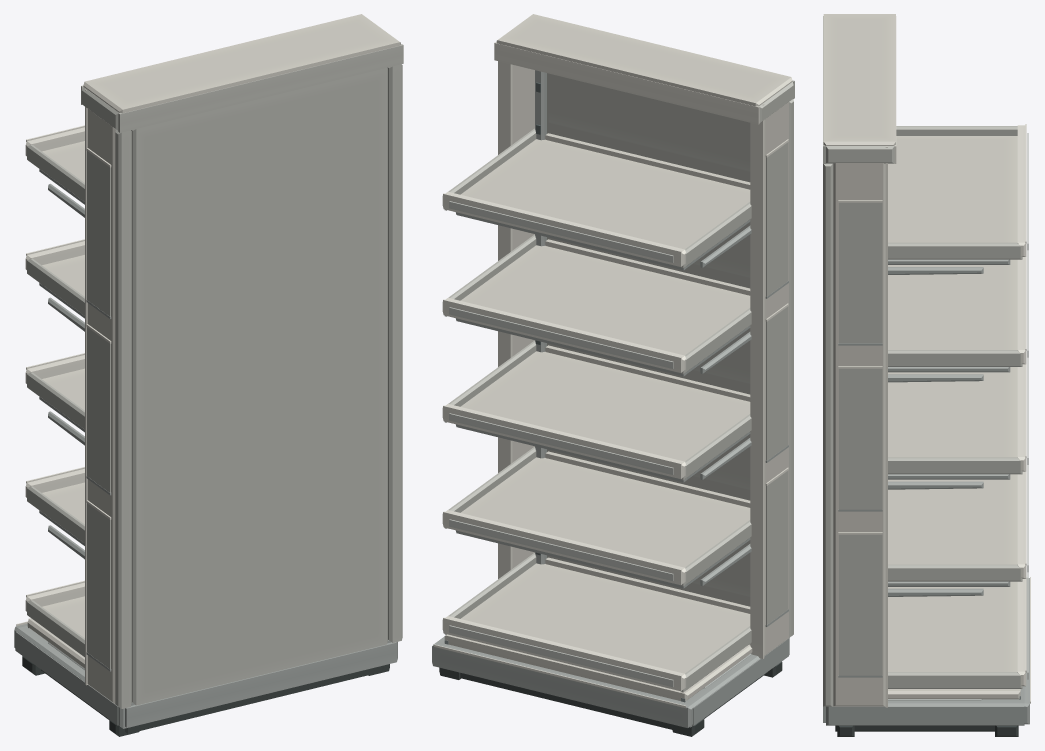
Rendered from retail_shelf_single.obj.
The picture shows the model from 3 angles, left to right: view 1: azimuth 30°, elevation 25°; view 2: azimuth 150°, elevation 25°; view 3: azimuth 270°, elevation 25°; orthographic projection. The views are drawn at different scales.
Visible parts, largest first — view 1: back_panel__mid, right_side_panel__mid, top_cap__plastic, base_assembly__deck, left_side_panel__mid, top_cap__mid, right_side_panel__plastic, base_assembly__plinth, right_side_panel__trim, shelf_tier_01__mid, shelf_tier_03__mid, shelf_tier_02__mid (+13 smaller); view 2: back_panel__mid, shelf_tier_01__plastic, shelf_tier_02__plastic, shelf_tier_04__plastic, shelf_tier_05__plastic, shelf_tier_03__plastic, right_side_panel__mid, top_cap__plastic, price_tag_strips__label, base_assembly__deck, right_side_panel__trim, top_cap__trim (+22 smaller); view 3: left_side_panel__mid, shelf_tier_05__plastic, shelf_tier_03__plastic, shelf_tier_02__plastic, shelf_tier_01__plastic, shelf_tier_04__plastic, left_side_panel__plastic, top_cap__plastic, base_assembly__deck, shelf_tier_05__mid, shelf_tier_03__mid, shelf_tier_02__mid (+17 smaller).
Part boxes in pixels (x1=…): back_panel__mid: x1=131, y1=68, x2=387, y2=705; right_side_panel__mid: x1=87, y1=129, x2=131, y2=708; top_cap__plastic: x1=83, y1=14, x2=400, y2=113; base_assembly__deck: x1=14, y1=623, x2=397, y2=728; left_side_panel__mid: x1=387, y1=64, x2=402, y2=642; top_cap__mid: x1=81, y1=44, x2=403, y2=132; right_side_panel__plastic: x1=87, y1=109, x2=115, y2=704; base_assembly__plinth: x1=22, y1=656, x2=389, y2=736; right_side_panel__trim: x1=85, y1=89, x2=111, y2=685; shelf_tier_01__mid: x1=27, y1=600, x2=84, y2=657; shelf_tier_03__mid: x1=27, y1=372, x2=84, y2=429; shelf_tier_02__mid: x1=27, y1=486, x2=84, y2=543; back_panel__mid: x1=547, y1=73, x2=750, y2=606; shelf_tier_01__plastic: x1=461, y1=557, x2=750, y2=673; shelf_tier_02__plastic: x1=460, y1=451, x2=750, y2=567; shelf_tier_04__plastic: x1=460, y1=239, x2=750, y2=355; shelf_tier_05__plastic: x1=460, y1=133, x2=750, y2=249; shelf_tier_03__plastic: x1=460, y1=345, x2=750, y2=461; right_side_panel__mid: x1=749, y1=99, x2=793, y2=644; top_cap__plastic: x1=496, y1=14, x2=792, y2=106; price_tag_strips__label: x1=449, y1=201, x2=673, y2=687; base_assembly__deck: x1=432, y1=636, x2=789, y2=727; right_side_panel__trim: x1=750, y1=104, x2=788, y2=658; top_cap__trim: x1=494, y1=42, x2=759, y2=124; left_side_panel__mid: x1=823, y1=163, x2=882, y2=706; shelf_tier_05__plastic: x1=888, y1=136, x2=1017, y2=242; shelf_tier_03__plastic: x1=888, y1=367, x2=1017, y2=457; shelf_tier_02__plastic: x1=888, y1=474, x2=1017, y2=564; shelf_tier_01__plastic: x1=888, y1=581, x2=1017, y2=671; shelf_tier_04__plastic: x1=888, y1=259, x2=1017, y2=349; left_side_panel__plastic: x1=833, y1=163, x2=885, y2=706; top_cap__plastic: x1=823, y1=14, x2=895, y2=145; base_assembly__deck: x1=823, y1=578, x2=1029, y2=725; shelf_tier_05__mid: x1=888, y1=126, x2=1022, y2=259; shelf_tier_03__mid: x1=888, y1=457, x2=1022, y2=474; shelf_tier_02__mid: x1=888, y1=564, x2=1022, y2=581.
Size of the model in its own units: 0.9488 by 2 by 0.631.
